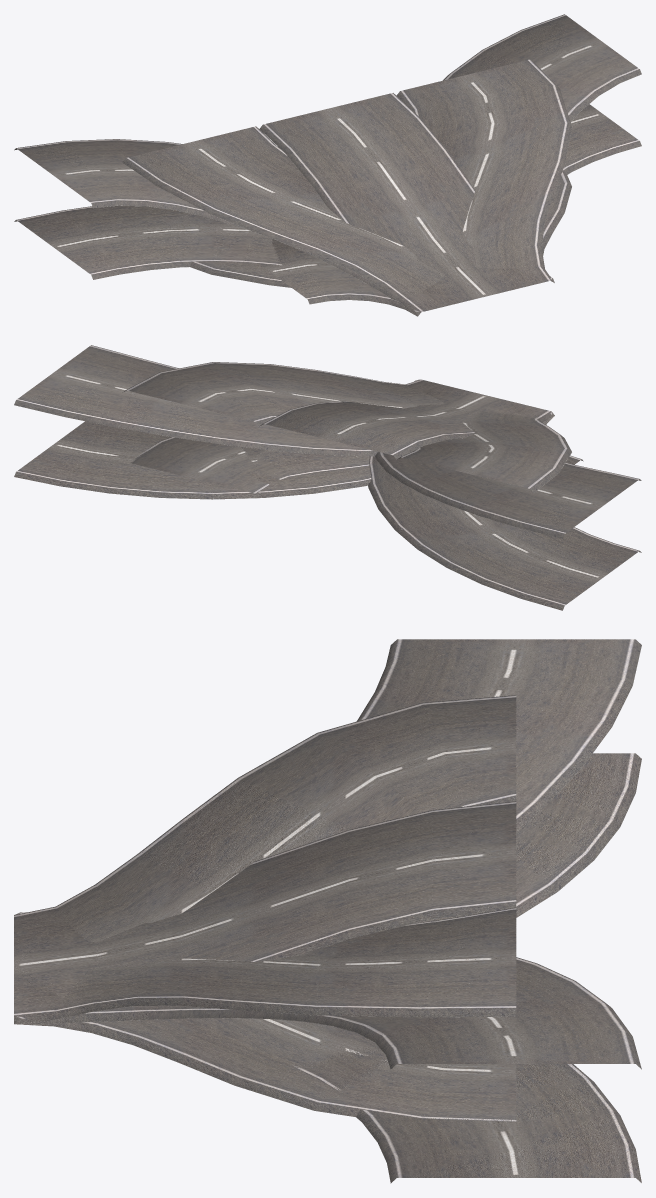
The model's file is road.fbx.
3 views of the same model, one above another, from view 1: azimuth 30°, elevation 25°; view 2: azimuth 150°, elevation 25°; view 3: azimuth 270°, elevation 25° (orthographic). The views are drawn at different scales.
Visible parts, largest first — view 1: straight_ramp, sbendRight_ramp, sbendLeft_ramp, largecurve, largecurveRight_ramp, largecurveLeft_ramp, sharpecurve, largecurveRight, sbendLeft, sbendRight; view 2: largecurve, largecurveRight_ramp, largecurveRight, sbendRight_ramp, largecurveLeft_ramp, straight_ramp, sbendLeft_ramp, sbendRight, sbendLeft; view 3: sbendLeft_ramp, straight_ramp, sbendRight_ramp, largecurveLeft_ramp, sbendRight, largecurveRight, largecurveRight_ramp, largecurve.
Boxes of the visible parts, x1,y1,x2,y2 form: straight_ramp: [259, 93, 521, 296]; sbendRight_ramp: [397, 59, 572, 296]; sbendLeft_ramp: [122, 126, 485, 316]; largecurve: [14, 205, 368, 285]; largecurveRight_ramp: [443, 14, 641, 121]; largecurveLeft_ramp: [14, 139, 416, 315]; sharpecurve: [258, 239, 553, 309]; largecurveRight: [563, 104, 641, 174]; sbendLeft: [166, 214, 415, 315]; sbendRight: [542, 171, 571, 255]; largecurve: [368, 456, 641, 610]; largecurveRight_ramp: [14, 345, 377, 456]; largecurveRight: [14, 421, 371, 499]; sbendRight_ramp: [124, 362, 484, 425]; largecurveLeft_ramp: [375, 416, 641, 538]; straight_ramp: [260, 390, 520, 459]; sbendLeft_ramp: [397, 395, 571, 492]; sbendRight: [131, 437, 369, 497]; sbendLeft: [400, 416, 554, 551]; sbendLeft_ramp: [14, 695, 516, 964]; straight_ramp: [14, 801, 516, 998]; sbendRight_ramp: [14, 907, 516, 1024]; largecurveLeft_ramp: [356, 639, 641, 831]; sbendRight: [17, 1018, 516, 1121]; largecurveRight: [294, 1044, 641, 1183]; largecurveRight_ramp: [16, 957, 641, 1069]; largecurve: [419, 753, 641, 922].
Bounding box in the file's own units: 8000 × 1050 × 5000.
